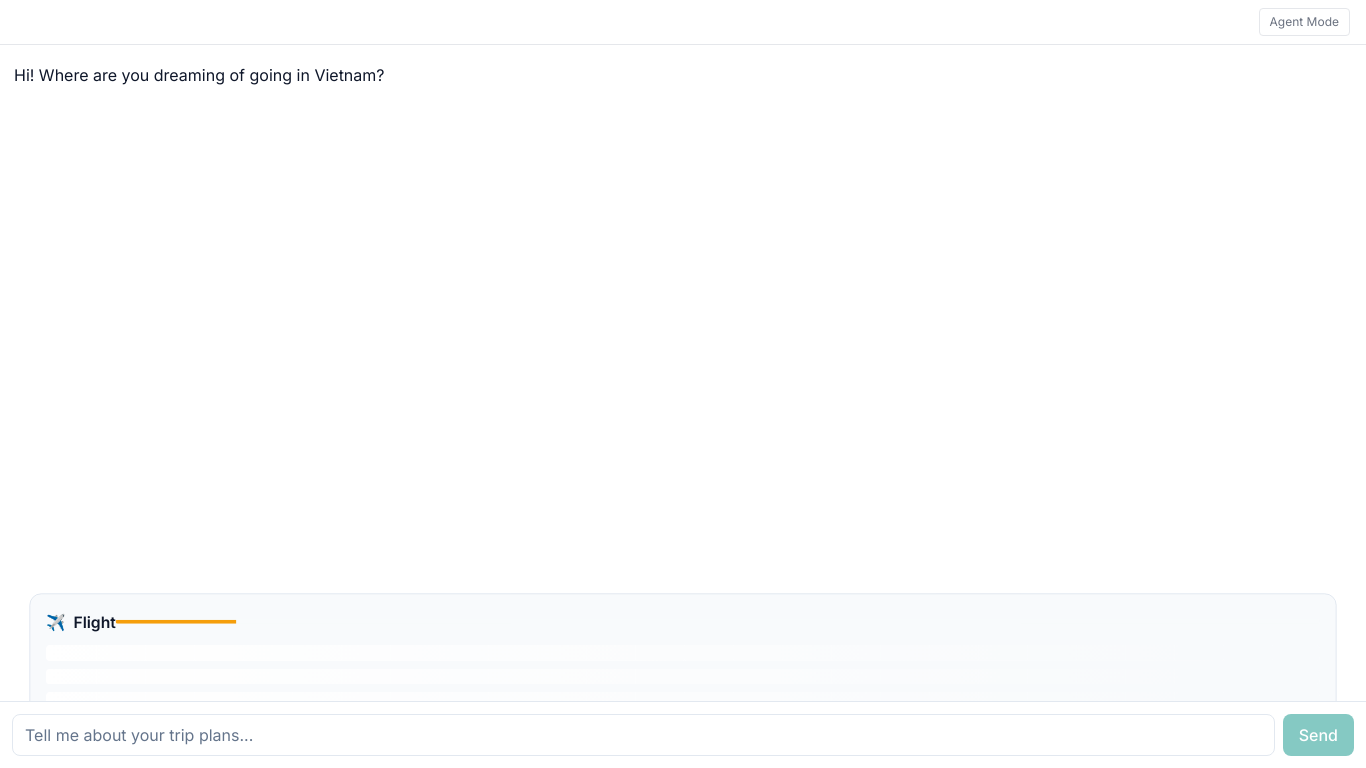
Test: DemoPage — calendar card (AC7) › AC7a: destination card tap + Enter → calendar card visible, narration updated
Type "Need a holiday" into the field with test id "chat-input".
click(643, 735); type("Need a holiday")  # box [12, 714, 1275, 756]
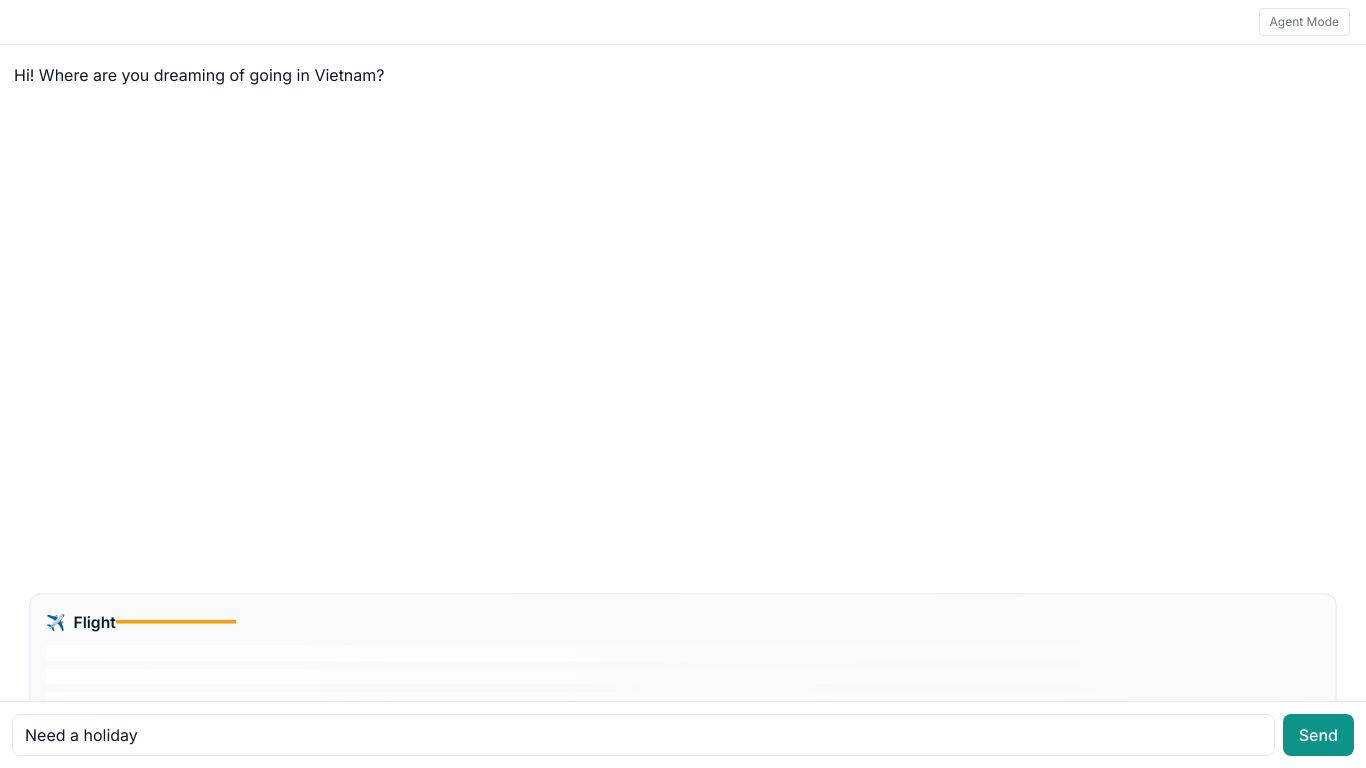
Submit the form with test id "chat-input", box [0, 702, 1365, 767]
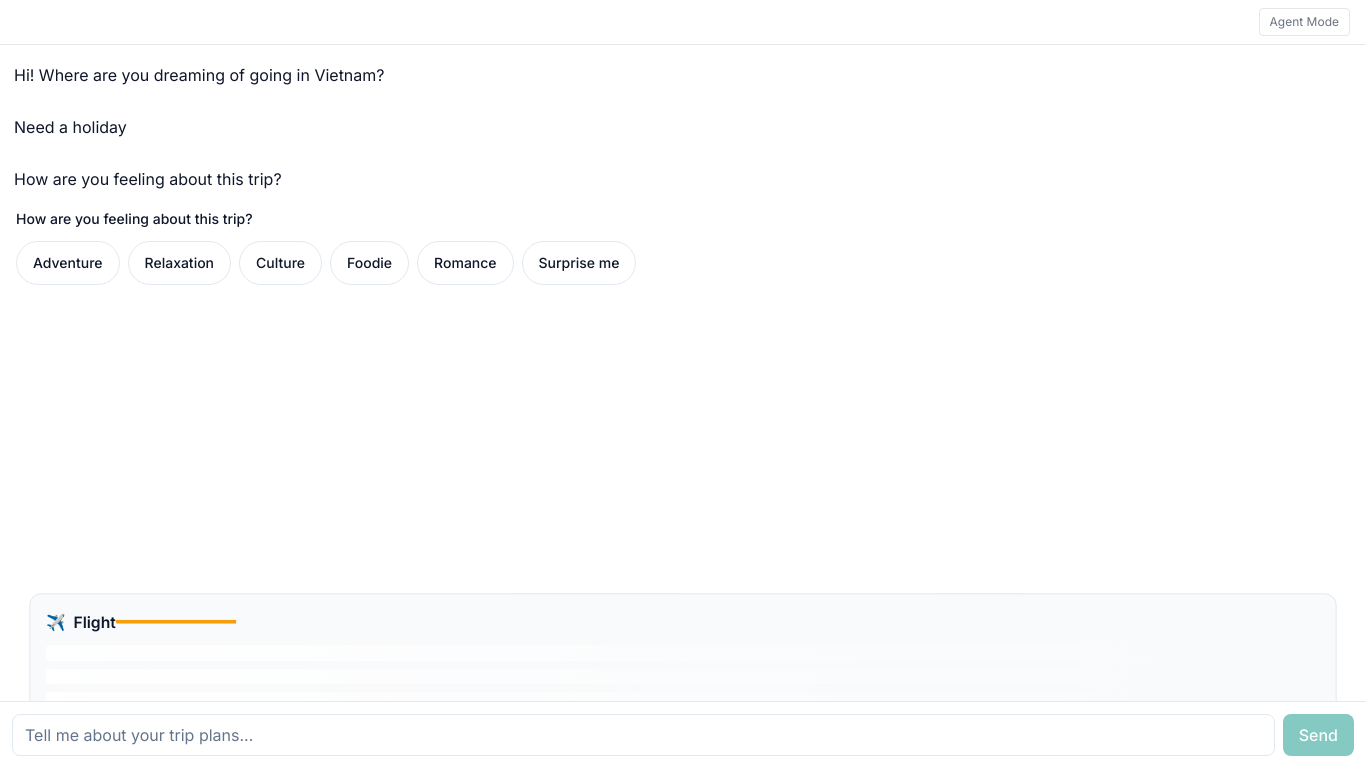
Click the radio button labelled "Adventure".
click(68, 263)  # box [16, 241, 120, 285]
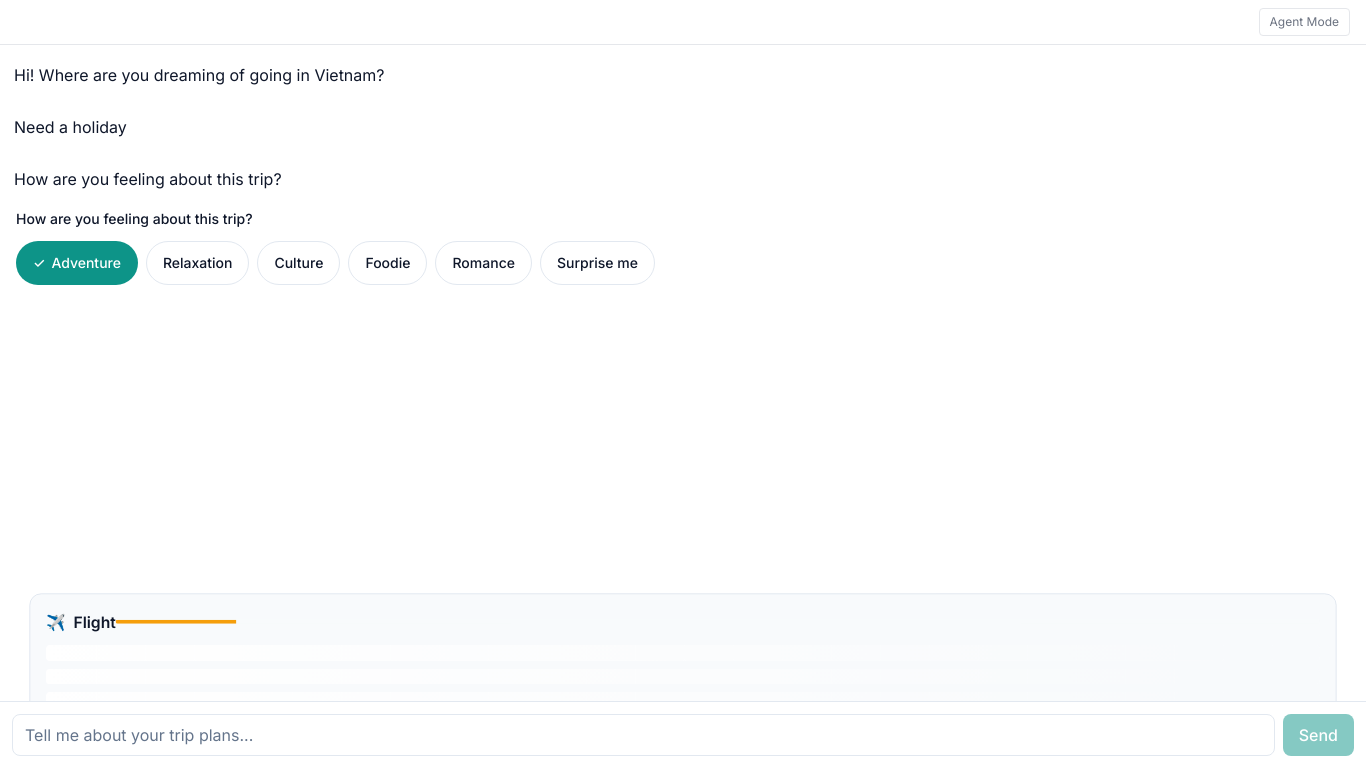
Press Enter in the radio button labelled "✓ Adventure", box [16, 241, 138, 285]
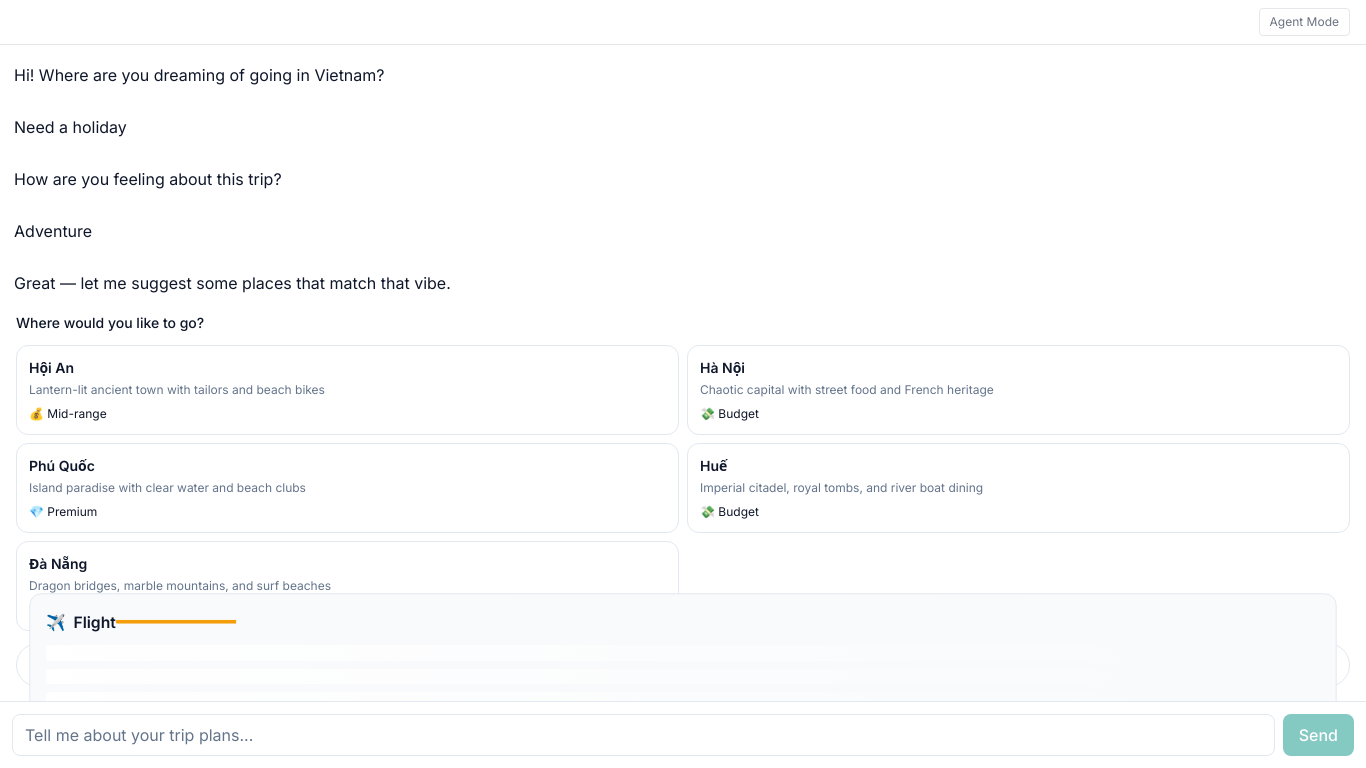
Click the radio button labelled "Hội An".
click(52, 368)  # box [16, 345, 679, 435]
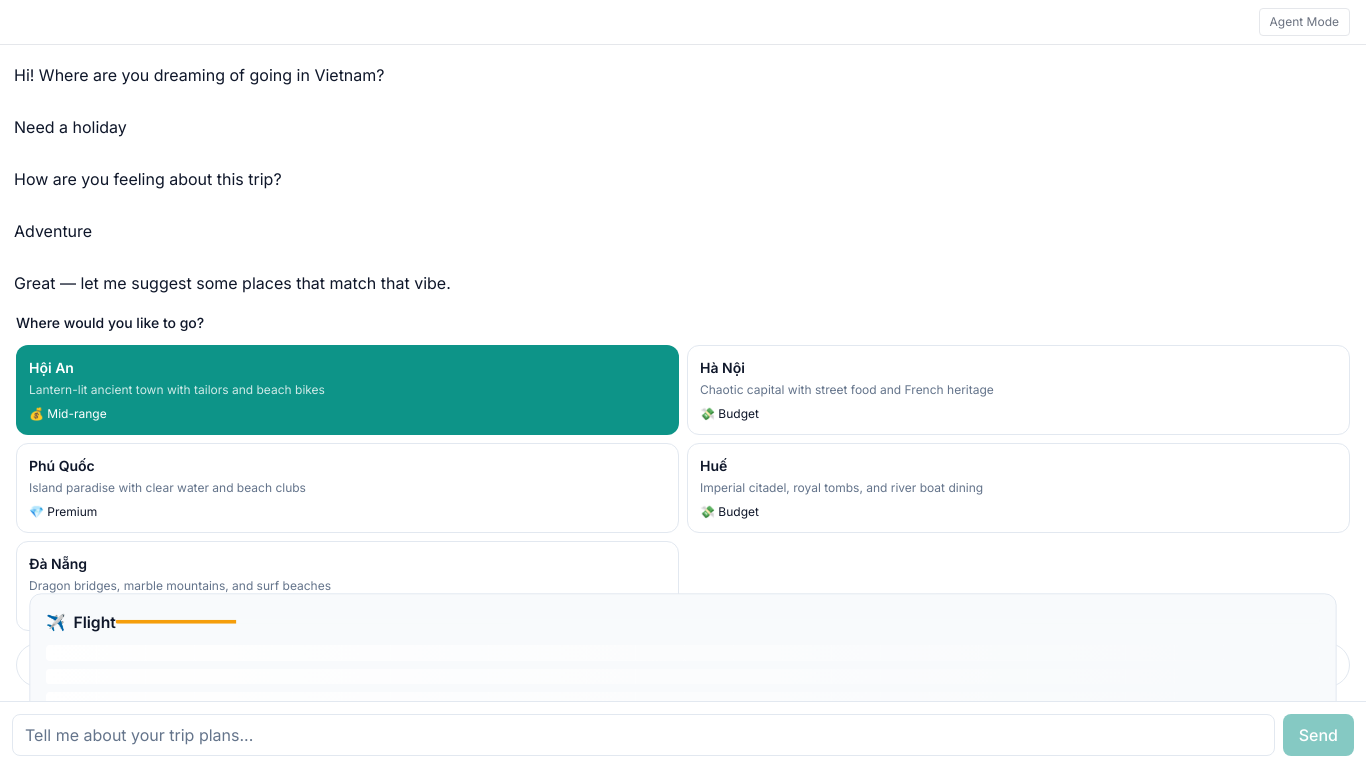
Press Enter in the radio button labelled "Hội An", box [16, 345, 679, 435]
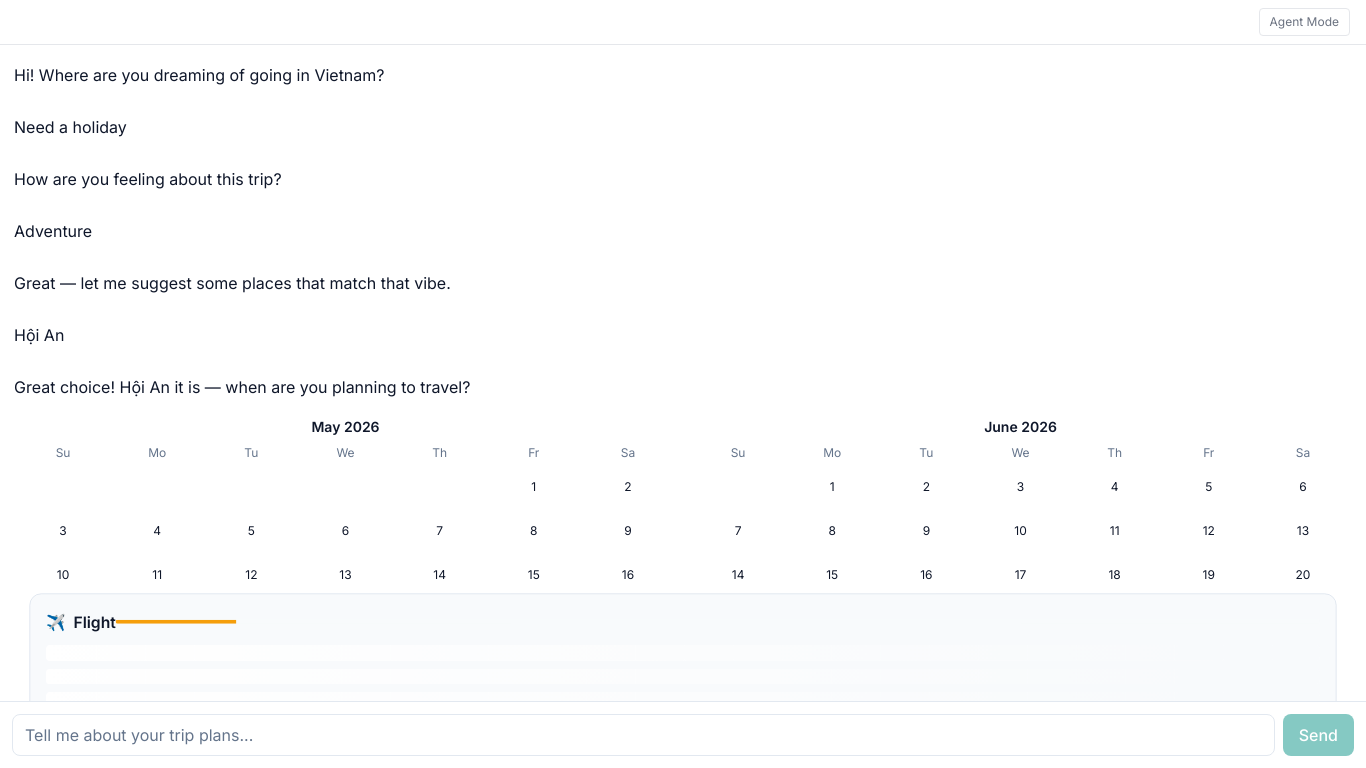
Expected: the text "when are you planning to travel?" is shown, [14, 377, 470, 397]
